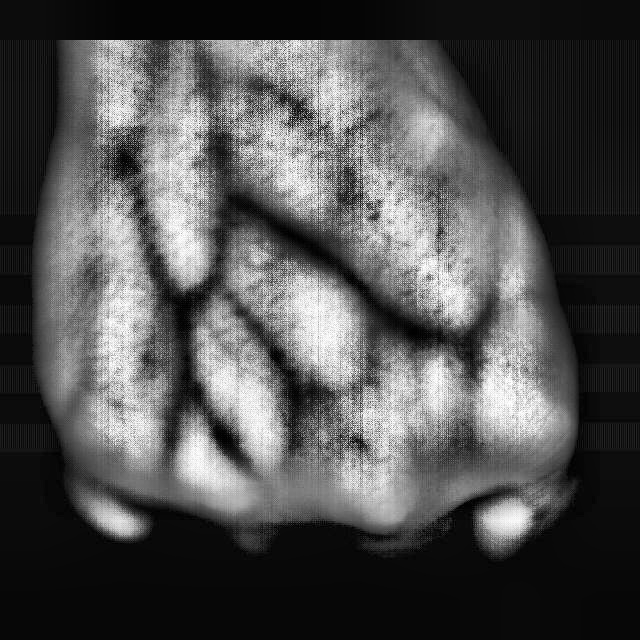Vein: (237, 189, 419, 343)
